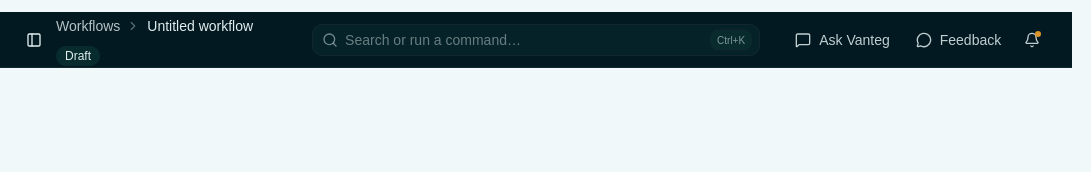
AppTopbar › shows an editable breadcrumb and environment badge on a workflow
Expected: the navigation bar named "breadcrumb" is shown, [56,13,253,66]
Expected: the link "Workflows" is shown, [56,16,120,36]
Click the button "Untitled workflow" at (200, 26), box [146,13,254,39]
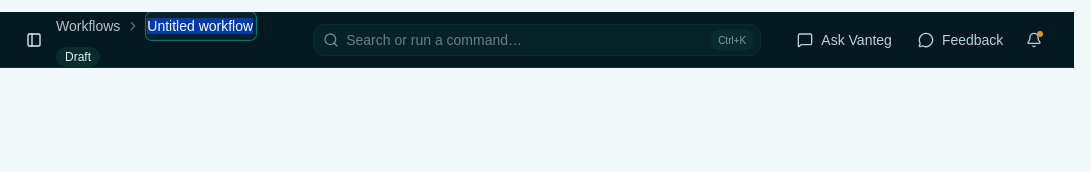
Result: the field named "Workflow name" holds "Untitled workflow" at [146,12,256,40]
